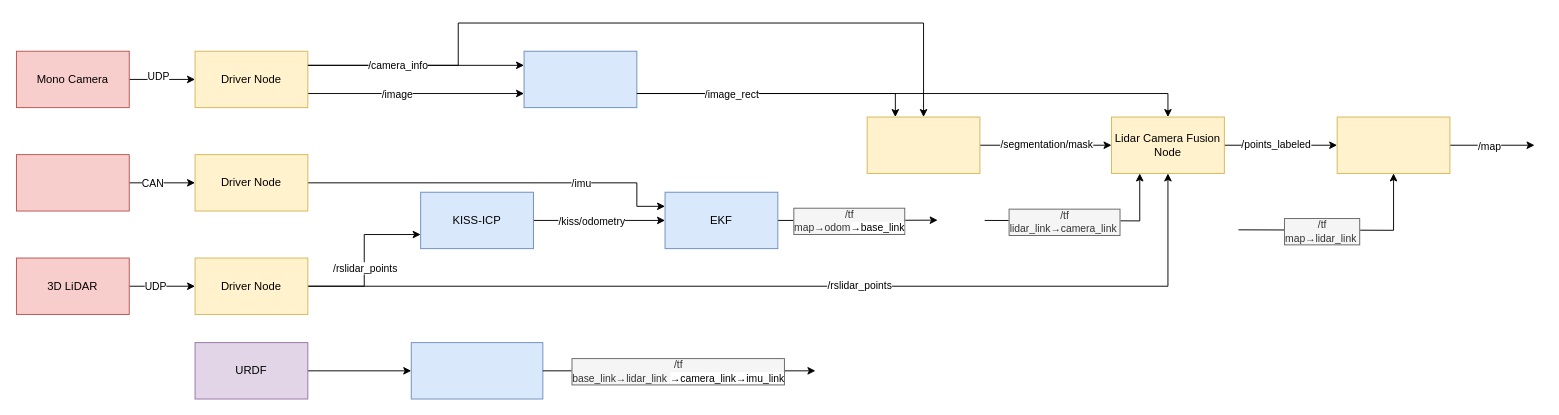
The diagram is 1559 pixels wide and 415 high, and some of its shapes have lost their labels. Each missing label, with the centre of its shape:
image_undistort: point (580, 79)
IMU: point (72, 182)
Ocupancy Grid Builder: point (1393, 144)
robot_state_publisher: point (476, 370)
Segmentation Inference Node: point (923, 144)
